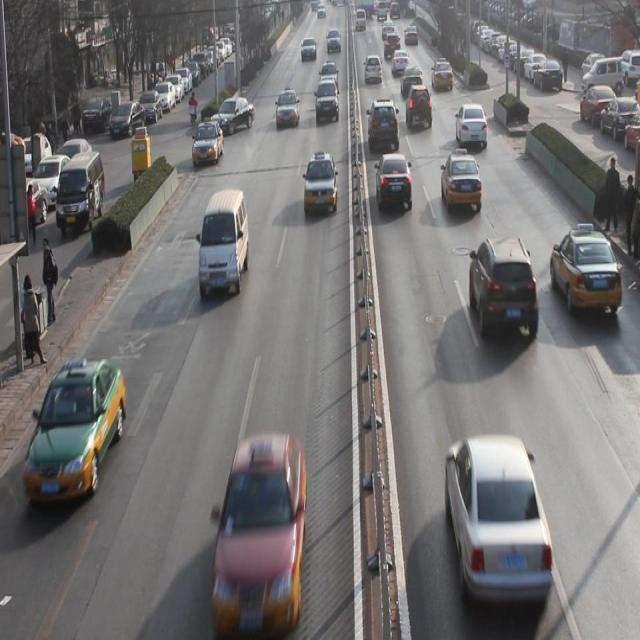car: (445, 436, 553, 597), (215, 440, 306, 620), (26, 367, 127, 499), (472, 231, 537, 340), (551, 226, 621, 320), (441, 152, 482, 216), (302, 154, 338, 216), (377, 153, 412, 212), (369, 100, 401, 152), (211, 99, 256, 134), (456, 104, 489, 150), (192, 121, 224, 168), (408, 87, 432, 133), (315, 82, 339, 128), (275, 90, 301, 130), (432, 59, 453, 93), (364, 53, 383, 88), (320, 62, 339, 92)
truck: (198, 191, 250, 300)
